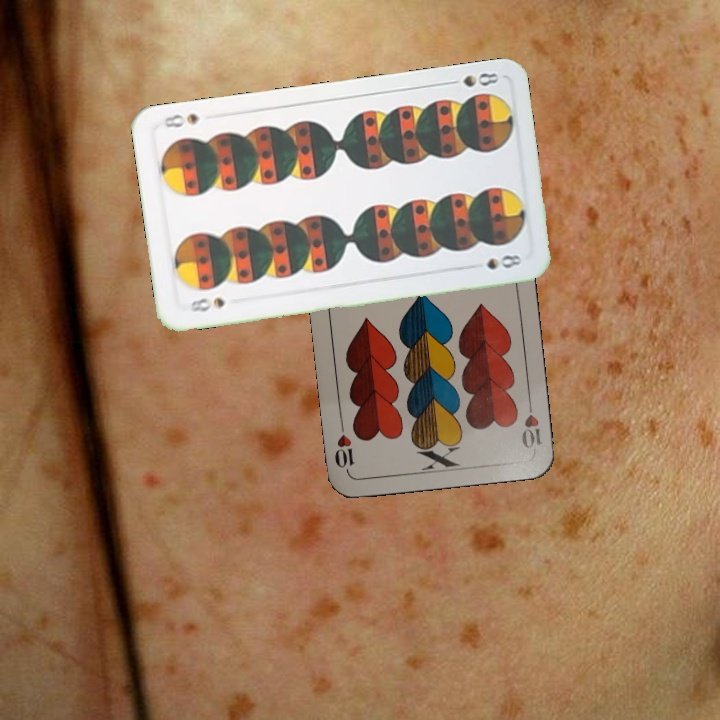H10: (517, 393, 545, 451)
S8: (442, 69, 502, 90), (186, 293, 227, 315)
